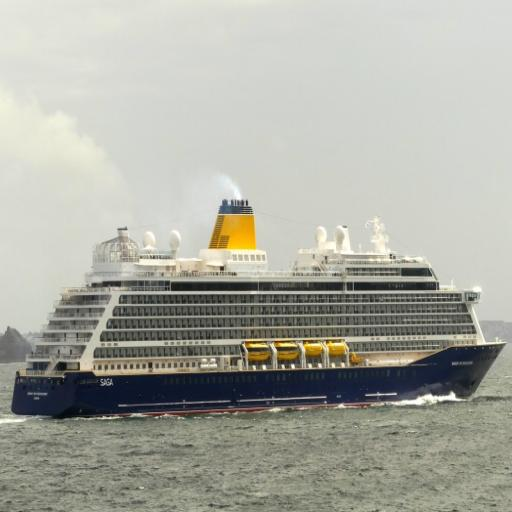cruises: (13, 182, 509, 407)
